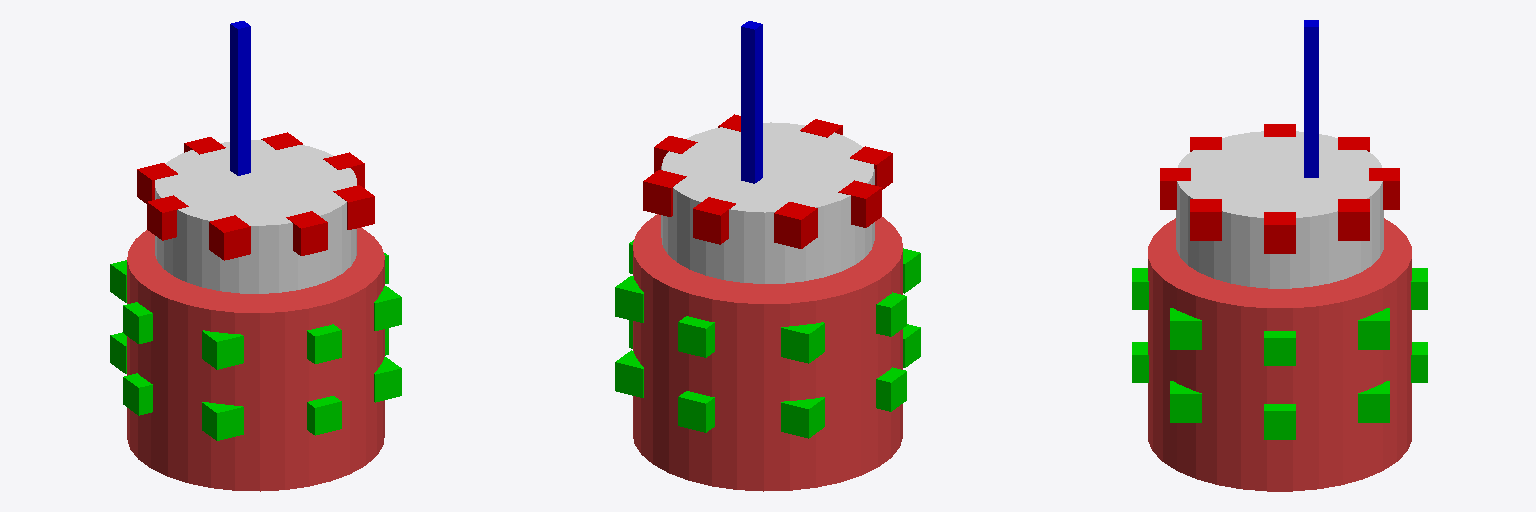
The robot description file, URDF, robot "random_bottle":
<?xml version="1.0"?>
<robot name="random_bottle">

  <!-- Define the cap link -->
  <link name="link1">
    <visual>
      <geometry>
        <mesh filename="cap.obj" scale="1.0 1.0 1.0"/>
      </geometry>
       <material name="white">
        <color rgba=".9 .9 .9 1"/>
      </material>

    </visual>
    <collision>
      <geometry>
        <mesh filename="cap.obj" scale="1.0 1.0 1.0"/>
      </geometry>
    </collision>

    <inertial>
      <mass value="0.011336414692549384"/> <!-- You can adjust the mass as needed -->
      <origin rpy="0 0 0" xyz="0 0 0"/>
      <inertia ixx="3.6656342151859346e-06" ixy="0.0" ixz="0.0" iyy="3.6656342151859346e-06" iyz="0.0" izz="6.196890835923163e-06"/>
    </inertial>
  </link>

    <link name="l10">
    <visual>
      <geometry>
        <box size="0.01 0.01 0.01"/>
      </geometry>

      <material name="red">
        <color rgba="0.9 0.0 0.0 1"/>
      </material>

    </visual>

    <inertial>
      <mass value="0.0001"/> <!-- You can adjust the mass as needed -->
      <origin rpy="0 0 0" xyz="0 0 -0.00"/> <!-- Offset by half of link1's height + 0.03m for the margin -->
      <inertia ixx="0.000000003" ixy="0.0" ixz="0.0" iyy="0.0000003" iyz="0.0" izz="0.00000003"/>
    </inertial>

  </link>
  <link name="l11">
    <visual>
      <geometry>
        <box size="0.01 0.01 0.01"/>
      </geometry>

      <material name="red">
        <color rgba="0.9 0.0 0.0 1"/>
      </material>

    </visual>

    <inertial>
      <mass value="0.0001"/> <!-- You can adjust the mass as needed -->
      <origin rpy="0 0 0" xyz="0 0 -0.00"/> <!-- Offset by half of link1's height + 0.03m for the margin -->
      <inertia ixx="0.000000003" ixy="0.0" ixz="0.0" iyy="0.0000003" iyz="0.0" izz="0.00000003"/>
    </inertial>

  </link>
  <link name="l12">
    <visual>
      <geometry>
        <box size="0.01 0.01 0.01"/>
      </geometry>

      <material name="red">
        <color rgba="0.9 0.0 0.0 1"/>
      </material>

    </visual>

    <inertial>
      <mass value="0.0001"/> <!-- You can adjust the mass as needed -->
      <origin rpy="0 0 0" xyz="0 0 -0.00"/> <!-- Offset by half of link1's height + 0.03m for the margin -->
      <inertia ixx="0.000000003" ixy="0.0" ixz="0.0" iyy="0.0000003" iyz="0.0" izz="0.00000003"/>
    </inertial>

  </link>
  <link name="l13">
    <visual>
      <geometry>
        <box size="0.01 0.01 0.01"/>
      </geometry>

      <material name="red">
        <color rgba="0.9 0.0 0.0 1"/>
      </material>

    </visual>

    <inertial>
      <mass value="0.0001"/> <!-- You can adjust the mass as needed -->
      <origin rpy="0 0 0" xyz="0 0 -0.00"/> <!-- Offset by half of link1's height + 0.03m for the margin -->
      <inertia ixx="0.000000003" ixy="0.0" ixz="0.0" iyy="0.0000003" iyz="0.0" izz="0.00000003"/>
    </inertial>

  </link>
  <link name="l10b">
    <visual>
      <geometry>
        <box size="0.01 0.01 0.01"/>
      </geometry>

      <material name="red">
        <color rgba="0.9 0.0 0.0 1"/>
      </material>

    </visual>

    <inertial>
      <mass value="0.0001"/> <!-- You can adjust the mass as needed -->
      <origin rpy="0 0 0" xyz="0 0 -0.00"/> <!-- Offset by half of link1's height + 0.03m for the margin -->
      <inertia ixx="0.000000003" ixy="0.0" ixz="0.0" iyy="0.0000003" iyz="0.0" izz="0.00000003"/>
    </inertial>

  </link>
  <link name="l11b">
    <visual>
      <geometry>
        <box size="0.01 0.01 0.01"/>
      </geometry>

      <material name="red">
        <color rgba="0.9 0.0 0.0 1"/>
      </material>

    </visual>

    <inertial>
      <mass value="0.0001"/> <!-- You can adjust the mass as needed -->
      <origin rpy="0 0 0" xyz="0 0 -0.00"/> <!-- Offset by half of link1's height + 0.03m for the margin -->
      <inertia ixx="0.000000003" ixy="0.0" ixz="0.0" iyy="0.0000003" iyz="0.0" izz="0.00000003"/>
    </inertial>

  </link>
  <link name="l12b">
    <visual>
      <geometry>
        <box size="0.01 0.01 0.01"/>
      </geometry>

      <material name="red">
        <color rgba="0.9 0.0 0.0 1"/>
      </material>

    </visual>

    <inertial>
      <mass value="0.0001"/> <!-- You can adjust the mass as needed -->
      <origin rpy="0 0 0" xyz="0 0 -0.00"/> <!-- Offset by half of link1's height + 0.03m for the margin -->
      <inertia ixx="0.000000003" ixy="0.0" ixz="0.0" iyy="0.0000003" iyz="0.0" izz="0.00000003"/>
    </inertial>

  </link>
  <link name="l13b">
    <visual>
      <geometry>
        <box size="0.01 0.01 0.01"/>
      </geometry>

      <material name="red">
        <color rgba="0.9 0.0 0.0 1"/>
      </material>

    </visual>

    <inertial>
      <mass value="0.0001"/> <!-- You can adjust the mass as needed -->
      <origin rpy="0 0 0" xyz="0 0 -0.00"/> <!-- Offset by half of link1's height + 0.03m for the margin -->
      <inertia ixx="0.000000003" ixy="0.0" ixz="0.0" iyy="0.0000003" iyz="0.0" izz="0.00000003"/>
    </inertial>

  </link>
  <link name="l20">
    <visual>
      <geometry>
        <box size="0.01 0.01 0.01"/>
      </geometry>

      <material name="red">
        <color rgba="0.0 0.9 0.0 1"/>
      </material>

    </visual>

    <inertial>
      <mass value="0.0001"/> <!-- You can adjust the mass as needed -->
      <origin rpy="0 0 0" xyz="0 0 -0.00"/> <!-- Offset by half of link1's height + 0.03m for the margin -->
      <inertia ixx="0.000000003" ixy="0.0" ixz="0.0" iyy="0.0000003" iyz="0.0" izz="0.00000003"/>
    </inertial>

  </link>
  <link name="l21">
    <visual>
      <geometry>
        <box size="0.01 0.01 0.01"/>
      </geometry>

      <material name="red">
        <color rgba="0.0 0.9 0.0 1"/>
      </material>

    </visual>

    <inertial>
      <mass value="0.0001"/> <!-- You can adjust the mass as needed -->
      <origin rpy="0 0 0" xyz="0 0 -0.00"/> <!-- Offset by half of link1's height + 0.03m for the margin -->
      <inertia ixx="0.000000003" ixy="0.0" ixz="0.0" iyy="0.0000003" iyz="0.0" izz="0.00000003"/>
    </inertial>

  </link>
  <link name="l22">
    <visual>
      <geometry>
        <box size="0.01 0.01 0.01"/>
      </geometry>

      <material name="red">
        <color rgba="0.0 0.9 0.0 1"/>
      </material>

    </visual>

    <inertial>
      <mass value="0.0001"/> <!-- You can adjust the mass as needed -->
      <origin rpy="0 0 0" xyz="0 0 -0.00"/> <!-- Offset by half of link1's height + 0.03m for the margin -->
      <inertia ixx="0.000000003" ixy="0.0" ixz="0.0" iyy="0.0000003" iyz="0.0" izz="0.00000003"/>
    </inertial>

  </link>
  <link name="l23">
    <visual>
      <geometry>
        <box size="0.01 0.01 0.01"/>
      </geometry>

      <material name="red">
        <color rgba="0.0 0.9 0.0 1"/>
      </material>

    </visual>

    <inertial>
      <mass value="0.0001"/> <!-- You can adjust the mass as needed -->
      <origin rpy="0 0 0" xyz="0 0 -0.00"/> <!-- Offset by half of link1's height + 0.03m for the margin -->
      <inertia ixx="0.000000003" ixy="0.0" ixz="0.0" iyy="0.0000003" iyz="0.0" izz="0.00000003"/>
    </inertial>

  </link>
  <link name="l24">
    <visual>
      <geometry>
        <box size="0.01 0.01 0.01"/>
      </geometry>

      <material name="red">
        <color rgba="0.0 0.9 0.0 1"/>
      </material>

    </visual>

    <inertial>
      <mass value="0.0001"/> <!-- You can adjust the mass as needed -->
      <origin rpy="0 0 0" xyz="0 0 -0.00"/> <!-- Offset by half of link1's height + 0.03m for the margin -->
      <inertia ixx="0.000000003" ixy="0.0" ixz="0.0" iyy="0.0000003" iyz="0.0" izz="0.00000003"/>
    </inertial>

  </link>
  <link name="l25">
    <visual>
      <geometry>
        <box size="0.01 0.01 0.01"/>
      </geometry>

      <material name="red">
        <color rgba="0.0 0.9 0.0 1"/>
      </material>

    </visual>

    <inertial>
      <mass value="0.0001"/> <!-- You can adjust the mass as needed -->
      <origin rpy="0 0 0" xyz="0 0 -0.00"/> <!-- Offset by half of link1's height + 0.03m for the margin -->
      <inertia ixx="0.000000003" ixy="0.0" ixz="0.0" iyy="0.0000003" iyz="0.0" izz="0.00000003"/>
    </inertial>

  </link>
  <link name="l26">
    <visual>
      <geometry>
        <box size="0.01 0.01 0.01"/>
      </geometry>

      <material name="red">
        <color rgba="0.0 0.9 0.0 1"/>
      </material>

    </visual>

    <inertial>
      <mass value="0.0001"/> <!-- You can adjust the mass as needed -->
      <origin rpy="0 0 0" xyz="0 0 -0.00"/> <!-- Offset by half of link1's height + 0.03m for the margin -->
      <inertia ixx="0.000000003" ixy="0.0" ixz="0.0" iyy="0.0000003" iyz="0.0" izz="0.00000003"/>
    </inertial>

  </link>
  <link name="l27">
    <visual>
      <geometry>
        <box size="0.01 0.01 0.01"/>
      </geometry>

      <material name="red">
        <color rgba="0.0 0.9 0.0 1"/>
      </material>

    </visual>

    <inertial>
      <mass value="0.0001"/> <!-- You can adjust the mass as needed -->
      <origin rpy="0 0 0" xyz="0 0 -0.00"/> <!-- Offset by half of link1's height + 0.03m for the margin -->
      <inertia ixx="0.000000003" ixy="0.0" ixz="0.0" iyy="0.0000003" iyz="0.0" izz="0.00000003"/>
    </inertial>

  </link>
  <link name="l30">
    <visual>
      <geometry>
        <box size="0.01 0.01 0.01"/>
      </geometry>

      <material name="red">
        <color rgba="0.0 0.9 0.0 1"/>
      </material>

    </visual>

    <inertial>
      <mass value="0.0001"/> <!-- You can adjust the mass as needed -->
      <origin rpy="0 0 0" xyz="0 0 -0.00"/> <!-- Offset by half of link1's height + 0.03m for the margin -->
      <inertia ixx="0.000000003" ixy="0.0" ixz="0.0" iyy="0.0000003" iyz="0.0" izz="0.00000003"/>
    </inertial>

  </link>
  <link name="l31">
    <visual>
      <geometry>
        <box size="0.01 0.01 0.01"/>
      </geometry>

      <material name="red">
        <color rgba="0.0 0.9 0.0 1"/>
      </material>

    </visual>

    <inertial>
      <mass value="0.0001"/> <!-- You can adjust the mass as needed -->
      <origin rpy="0 0 0" xyz="0 0 -0.00"/> <!-- Offset by half of link1's height + 0.03m for the margin -->
      <inertia ixx="0.000000003" ixy="0.0" ixz="0.0" iyy="0.0000003" iyz="0.0" izz="0.00000003"/>
    </inertial>

  </link>
  <link name="l32">
    <visual>
      <geometry>
        <box size="0.01 0.01 0.01"/>
      </geometry>

      <material name="red">
        <color rgba="0.0 0.9 0.0 1"/>
      </material>

    </visual>

    <inertial>
      <mass value="0.0001"/> <!-- You can adjust the mass as needed -->
      <origin rpy="0 0 0" xyz="0 0 -0.00"/> <!-- Offset by half of link1's height + 0.03m for the margin -->
      <inertia ixx="0.000000003" ixy="0.0" ixz="0.0" iyy="0.0000003" iyz="0.0" izz="0.00000003"/>
    </inertial>

  </link>
  <link name="l33">
    <visual>
      <geometry>
        <box size="0.01 0.01 0.01"/>
      </geometry>

      <material name="red">
        <color rgba="0.0 0.9 0.0 1"/>
      </material>

    </visual>

    <inertial>
      <mass value="0.0001"/> <!-- You can adjust the mass as needed -->
      <origin rpy="0 0 0" xyz="0 0 -0.00"/> <!-- Offset by half of link1's height + 0.03m for the margin -->
      <inertia ixx="0.000000003" ixy="0.0" ixz="0.0" iyy="0.0000003" iyz="0.0" izz="0.00000003"/>
    </inertial>

  </link>
  <link name="l34">
    <visual>
      <geometry>
        <box size="0.01 0.01 0.01"/>
      </geometry>

      <material name="red">
        <color rgba="0.0 0.9 0.0 1"/>
      </material>

    </visual>

    <inertial>
      <mass value="0.0001"/> <!-- You can adjust the mass as needed -->
      <origin rpy="0 0 0" xyz="0 0 -0.00"/> <!-- Offset by half of link1's height + 0.03m for the margin -->
      <inertia ixx="0.000000003" ixy="0.0" ixz="0.0" iyy="0.0000003" iyz="0.0" izz="0.00000003"/>
    </inertial>

  </link>
  <link name="l35">
    <visual>
      <geometry>
        <box size="0.01 0.01 0.01"/>
      </geometry>

      <material name="red">
        <color rgba="0.0 0.9 0.0 1"/>
      </material>

    </visual>

    <inertial>
      <mass value="0.0001"/> <!-- You can adjust the mass as needed -->
      <origin rpy="0 0 0" xyz="0 0 -0.00"/> <!-- Offset by half of link1's height + 0.03m for the margin -->
      <inertia ixx="0.000000003" ixy="0.0" ixz="0.0" iyy="0.0000003" iyz="0.0" izz="0.00000003"/>
    </inertial>

  </link>
  <link name="l36">
    <visual>
      <geometry>
        <box size="0.01 0.01 0.01"/>
      </geometry>

      <material name="red">
        <color rgba="0.0 0.9 0.0 1"/>
      </material>

    </visual>

    <inertial>
      <mass value="0.0001"/> <!-- You can adjust the mass as needed -->
      <origin rpy="0 0 0" xyz="0 0 -0.00"/> <!-- Offset by half of link1's height + 0.03m for the margin -->
      <inertia ixx="0.000000003" ixy="0.0" ixz="0.0" iyy="0.0000003" iyz="0.0" izz="0.00000003"/>
    </inertial>

  </link>
  <link name="l37">
    <visual>
      <geometry>
        <box size="0.01 0.01 0.01"/>
      </geometry>

      <material name="red">
        <color rgba="0.0 0.9 0.0 1"/>
      </material>

    </visual>

    <inertial>
      <mass value="0.0001"/> <!-- You can adjust the mass as needed -->
      <origin rpy="0 0 0" xyz="0 0 -0.00"/> <!-- Offset by half of link1's height + 0.03m for the margin -->
      <inertia ixx="0.000000003" ixy="0.0" ixz="0.0" iyy="0.0000003" iyz="0.0" izz="0.00000003"/>
    </inertial>

  </link>


  <link name="hint">
    <visual>
      <geometry>
        <box size="0.005 0.005 0.07"/> <!-- 9cm x 9cm x 6cm -->
      </geometry>
       <material name="blue">
        <color rgba=".0 .0 .9 1"/>
      </material>
    </visual>

    <inertial>
      <mass value="0.0001"/> <!-- You can adjust the mass as needed -->
      <origin rpy="0 0 0" xyz="0 0 -0.00"/> <!-- Offset by half of link1's height + 0.03m for the margin -->
      <inertia ixx="0.000000003" ixy="0.0" ixz="0.0" iyy="0.0000003" iyz="0.0" izz="0.00000003"/>
    </inertial>


  </link>

  <!-- Define the base link -->
  <link name="link2">
    <visual>
      <geometry>
        <mesh filename="base.obj" scale="1.0 1.0 1.0"/>
      </geometry>
      <material name="red">
        <color rgba=".9 .3 .3 1"/>
      </material>

    </visual>

    <collision>
      <geometry>
        <mesh filename="base.obj" scale="1.0 1.0 1.0"/>
      </geometry>
    </collision>

    <inertial>
      <mass value="0.0595280353461006"/> <!-- You can adjust the mass as needed -->
      <origin rpy="0 0 0" xyz="0 0 -0.00"/> <!-- Offset by half of link1's height + 0.03m for the margin -->
      <inertia ixx="4.662346849964309e-05" ixy="0.0" ixz="0.0" iyy="4.662346849964309e-05" iyz="0.0" izz="5.2575121920186624e-05"/>
    </inertial>
  </link>



  <link name="brake">
   <visual>
      <geometry>
        <box size="0.02 0.02 0.005"/> <!-- 6cm x 6cm x 2cm -->
      </geometry>
       <material name="gray">
        <color rgba=".5 .5 .5 1"/>
      </material>

    </visual>
    <collision>
      <geometry>
        <box size="0.02 0.02 0.005"/> <!-- 6cm x 6cm x 2cm -->
      </geometry>
    </collision>

    <inertial>
      <mass value="0.005"/> <!-- You can adjust the mass as needed -->
      <origin rpy="0 0 0" xyz="0 0 0"/>
      <inertia ixx="0.00018" ixy="0.0" ixz="0.0" iyy="0.00018" iyz="0.0" izz="0.00018"/>
    </inertial>
  </link>

  <!-- Define the joint connecting link1 and link2 as a revolute joint along z-axis -->
  <joint name="fix_joint" type="fixed">
    <parent link="link1"/>
    <child link="hint"/>
    <origin rpy="0 0 0" xyz="0 0.01 0.03"/> <!-- Offset by half of link1's height for the margin -->
    <axis xyz="0 0 1"/>
  </joint>

  <!-- Define the joint connecting link1 and link2 as a revolute joint along z-axis -->
  <joint name="brake_joint" type="prismatic">
    <parent link="link2"/>
    <child link="brake"/>
    <origin rpy="0 0 0" xyz="0 0 0.05651623650048813"/> <!-- Offset by half of link1's height for the margin -->
    <axis xyz="0 0 1"/>
    <limit lower="-0.02" upper="0.02" />
    <!-- <dynamics damping="0.0" friction="0.0"/> -->
  </joint>


  <joint name="b_joint" type="revolute">
    <parent link="link2"/>
    <child link="link1"/>
    <origin rpy="0 0 0" xyz="0 0 0.047013387535324754"/> <!-- Offset by half of link1's height for the margin -->
    <axis xyz="0 0 1"/>
    <!-- No joint limits -->
    <dynamics damping="0.0" friction="0.0"/>
  </joint>


  <!-- marker -->
    <joint name="jl10" type="fixed">
    <parent link="link1"/>
    <child link="l10"/>
    <origin rpy="0 0 0" xyz="0.0 0.03306465979348453 0.007350854689549012"/> <!-- Offset by half of link1's height for the margin -->
    <axis xyz="0 0 1"/>
  </joint>
  <joint name="jl11" type="fixed">
    <parent link="link1"/>
    <child link="l11"/>
    <origin rpy="0 0 0" xyz="0.023380244844363476 0.023380245470834723 0.007350854689549012"/> <!-- Offset by half of link1's height for the margin -->
    <axis xyz="0 0 1"/>
  </joint>
  <joint name="jl12" type="fixed">
    <parent link="link1"/>
    <child link="l12"/>
    <origin rpy="0 0 0" xyz="0.03306465979348452 8.859641397855722e-10 0.007350854689549012"/> <!-- Offset by half of link1's height for the margin -->
    <axis xyz="0 0 1"/>
  </joint>
  <joint name="jl13" type="fixed">
    <parent link="link1"/>
    <child link="l13"/>
    <origin rpy="0 0 0" xyz="0.023380246097305952 -0.02338024421789221 0.007350854689549012"/> <!-- Offset by half of link1's height for the margin -->
    <axis xyz="0 0 1"/>
  </joint>
  <joint name="jl10b" type="fixed">
    <parent link="link1"/>
    <child link="l10b"/>
    <origin rpy="0 0 0" xyz="1.7719282795711438e-09 -0.03306465979348448 0.007350854689549012"/> <!-- Offset by half of link1's height for the margin -->
    <axis xyz="0 0 1"/>
  </joint>
  <joint name="jl11b" type="fixed">
    <parent link="link1"/>
    <child link="l11b"/>
    <origin rpy="0 0 0" xyz="-0.023380243591420918 -0.023380246723777184 0.007350854689549012"/> <!-- Offset by half of link1's height for the margin -->
    <axis xyz="0 0 1"/>
  </joint>
  <joint name="jl12b" type="fixed">
    <parent link="link1"/>
    <child link="l12b"/>
    <origin rpy="0 0 0" xyz="-0.03306465979348443 -2.6578924046730557e-09 0.007350854689549012"/> <!-- Offset by half of link1's height for the margin -->
    <axis xyz="0 0 1"/>
  </joint>
  <joint name="jl13b" type="fixed">
    <parent link="link1"/>
    <child link="l13b"/>
    <origin rpy="0 0 0" xyz="-0.023380247350248372 0.023380242964949626 0.007350854689549012"/> <!-- Offset by half of link1's height for the margin -->
    <axis xyz="0 0 1"/>
  </joint>
  <joint name="jl20" type="fixed">
    <parent link="link2"/>
    <child link="l20"/>
    <origin rpy="0 0 0" xyz="0.0 0.04202854616968251 0.01920803252119485"/> <!-- Offset by half of link1's height for the margin -->
    <axis xyz="0 0 1"/>
  </joint>
  <joint name="jl21" type="fixed">
    <parent link="link2"/>
    <child link="l21"/>
    <origin rpy="0 0 0" xyz="0.029718669601840057 0.029718670398148742 0.01920803252119485"/> <!-- Offset by half of link1's height for the margin -->
    <axis xyz="0 0 1"/>
  </joint>
  <joint name="jl22" type="fixed">
    <parent link="link2"/>
    <child link="l22"/>
    <origin rpy="0 0 0" xyz="0.0420285461696825 1.1261505482357442e-09 0.01920803252119485"/> <!-- Offset by half of link1's height for the margin -->
    <axis xyz="0 0 1"/>
  </joint>
  <joint name="jl23" type="fixed">
    <parent link="link2"/>
    <child link="l23"/>
    <origin rpy="0 0 0" xyz="0.029718671194457404 -0.029718668805531347 0.01920803252119485"/> <!-- Offset by half of link1's height for the margin -->
    <axis xyz="0 0 1"/>
  </joint>
  <joint name="jl24" type="fixed">
    <parent link="link2"/>
    <child link="l24"/>
    <origin rpy="0 0 0" xyz="2.2523010964714875e-09 -0.04202854616968245 0.01920803252119485"/> <!-- Offset by half of link1's height for the margin -->
    <axis xyz="0 0 1"/>
  </joint>
  <joint name="jl25" type="fixed">
    <parent link="link2"/>
    <child link="l25"/>
    <origin rpy="0 0 0" xyz="-0.029718668009222605 -0.029718671990766065 0.01920803252119485"/> <!-- Offset by half of link1's height for the margin -->
    <axis xyz="0 0 1"/>
  </joint>
  <joint name="jl26" type="fixed">
    <parent link="link2"/>
    <child link="l26"/>
    <origin rpy="0 0 0" xyz="-0.04202854616968237 -3.3784516260428057e-09 0.01920803252119485"/> <!-- Offset by half of link1's height for the margin -->
    <axis xyz="0 0 1"/>
  </joint>
  <joint name="jl27" type="fixed">
    <parent link="link2"/>
    <child link="l27"/>
    <origin rpy="0 0 0" xyz="-0.029718672787074674 0.029718667212913864 0.01920803252119485"/> <!-- Offset by half of link1's height for the margin -->
    <axis xyz="0 0 1"/>
  </joint>
  <joint name="jl30" type="fixed">
    <parent link="link2"/>
    <child link="l30"/>
    <origin rpy="0 0 0" xyz="0.0 0.04202854616968251 -0.0064026775070649515"/> <!-- Offset by half of link1's height for the margin -->
    <axis xyz="0 0 1"/>
  </joint>
  <joint name="jl31" type="fixed">
    <parent link="link2"/>
    <child link="l31"/>
    <origin rpy="0 0 0" xyz="0.029718669601840057 0.029718670398148742 -0.0064026775070649515"/> <!-- Offset by half of link1's height for the margin -->
    <axis xyz="0 0 1"/>
  </joint>
  <joint name="jl32" type="fixed">
    <parent link="link2"/>
    <child link="l32"/>
    <origin rpy="0 0 0" xyz="0.0420285461696825 1.1261505482357442e-09 -0.0064026775070649515"/> <!-- Offset by half of link1's height for the margin -->
    <axis xyz="0 0 1"/>
  </joint>
  <joint name="jl33" type="fixed">
    <parent link="link2"/>
    <child link="l33"/>
    <origin rpy="0 0 0" xyz="0.029718671194457404 -0.029718668805531347 -0.0064026775070649515"/> <!-- Offset by half of link1's height for the margin -->
    <axis xyz="0 0 1"/>
  </joint>
  <joint name="jl34" type="fixed">
    <parent link="link2"/>
    <child link="l34"/>
    <origin rpy="0 0 0" xyz="2.2523010964714875e-09 -0.04202854616968245 -0.0064026775070649515"/> <!-- Offset by half of link1's height for the margin -->
    <axis xyz="0 0 1"/>
  </joint>
  <joint name="jl35" type="fixed">
    <parent link="link2"/>
    <child link="l35"/>
    <origin rpy="0 0 0" xyz="-0.029718668009222605 -0.029718671990766065 -0.0064026775070649515"/> <!-- Offset by half of link1's height for the margin -->
    <axis xyz="0 0 1"/>
  </joint>
  <joint name="jl36" type="fixed">
    <parent link="link2"/>
    <child link="l36"/>
    <origin rpy="0 0 0" xyz="-0.04202854616968237 -3.3784516260428057e-09 -0.0064026775070649515"/> <!-- Offset by half of link1's height for the margin -->
    <axis xyz="0 0 1"/>
  </joint>
  <joint name="jl37" type="fixed">
    <parent link="link2"/>
    <child link="l37"/>
    <origin rpy="0 0 0" xyz="-0.029718672787074674 0.029718667212913864 -0.0064026775070649515"/> <!-- Offset by half of link1's height for the margin -->
    <axis xyz="0 0 1"/>
  </joint>



</robot>

--- What the picture shows (computed from the rendered views, not written in the file) ---
Views: 3 orthographic renders of the robot side by side, from view 1: azimuth 30°, elevation 25°; view 2: azimuth 150°, elevation 25°; view 3: azimuth 270°, elevation 25°.
Model random_bottle with 28 links and 27 joints (1 revolute, 1 prismatic, 25 fixed), rooted at link2, posed all joints at 0.
Links seen in each view (by area): view 1: link2, link1, hint, l11b, l25, l35, l10b, l12b, l24, l13, l34, l36 (+7 smaller); view 2: link2, link1, hint, l13b, l37, l27, l10, l12b, l11, l30, l20, l26 (+7 smaller); view 3: link2, link1, hint, l11, l12, l13, l21, l23, l32, l31, l33, l22 (+6 smaller).
Boxes of the visible links, left/top/right/bottom form: link2: left=127, top=227, right=384, bottom=491; link1: left=155, top=140, right=356, bottom=293; hint: left=230, top=21, right=250, bottom=175; l11b: left=209, top=215, right=250, bottom=260; l25: left=202, top=330, right=243, bottom=369; l35: left=202, top=402, right=243, bottom=440; l10b: left=286, top=211, right=327, bottom=255; l12b: left=147, top=195, right=188, bottom=240; l24: left=307, top=324, right=341, bottom=363; l13: left=333, top=185, right=374, bottom=229; l34: left=307, top=396, right=341, bottom=435; l36: left=123, top=373, right=152, bottom=415; link2: left=633, top=214, right=902, bottom=491; link1: left=661, top=122, right=874, bottom=283; hint: left=741, top=21, right=762, bottom=183; l13b: left=774, top=202, right=817, bottom=248; l37: left=781, top=397, right=824, bottom=438; l27: left=781, top=322, right=824, bottom=363; l10: left=693, top=197, right=735, bottom=244; l12b: left=838, top=180, right=881, bottom=227; l11: left=643, top=170, right=686, bottom=216; l30: left=678, top=391, right=714, bottom=432; l20: left=678, top=316, right=714, bottom=357; l26: left=876, top=292, right=906, bottom=336; link2: left=1148, top=218, right=1411, bottom=491; link1: left=1176, top=131, right=1383, bottom=288; hint: left=1304, top=20, right=1318, bottom=177; l11: left=1338, top=199, right=1369, bottom=240; l12: left=1264, top=212, right=1295, bottom=253; l13: left=1190, top=199, right=1221, bottom=240; l21: left=1358, top=308, right=1389, bottom=349; l23: left=1170, top=308, right=1201, bottom=349; l32: left=1264, top=404, right=1295, bottom=439; l31: left=1358, top=381, right=1389, bottom=422; l33: left=1170, top=381, right=1201, bottom=422; l22: left=1264, top=331, right=1295, bottom=365.
Size in the robot's own frame: 0.0941 by 0.0941 by 0.144 metres.
2 mesh visuals loaded from 2 distinct referenced files (2 OBJ).
